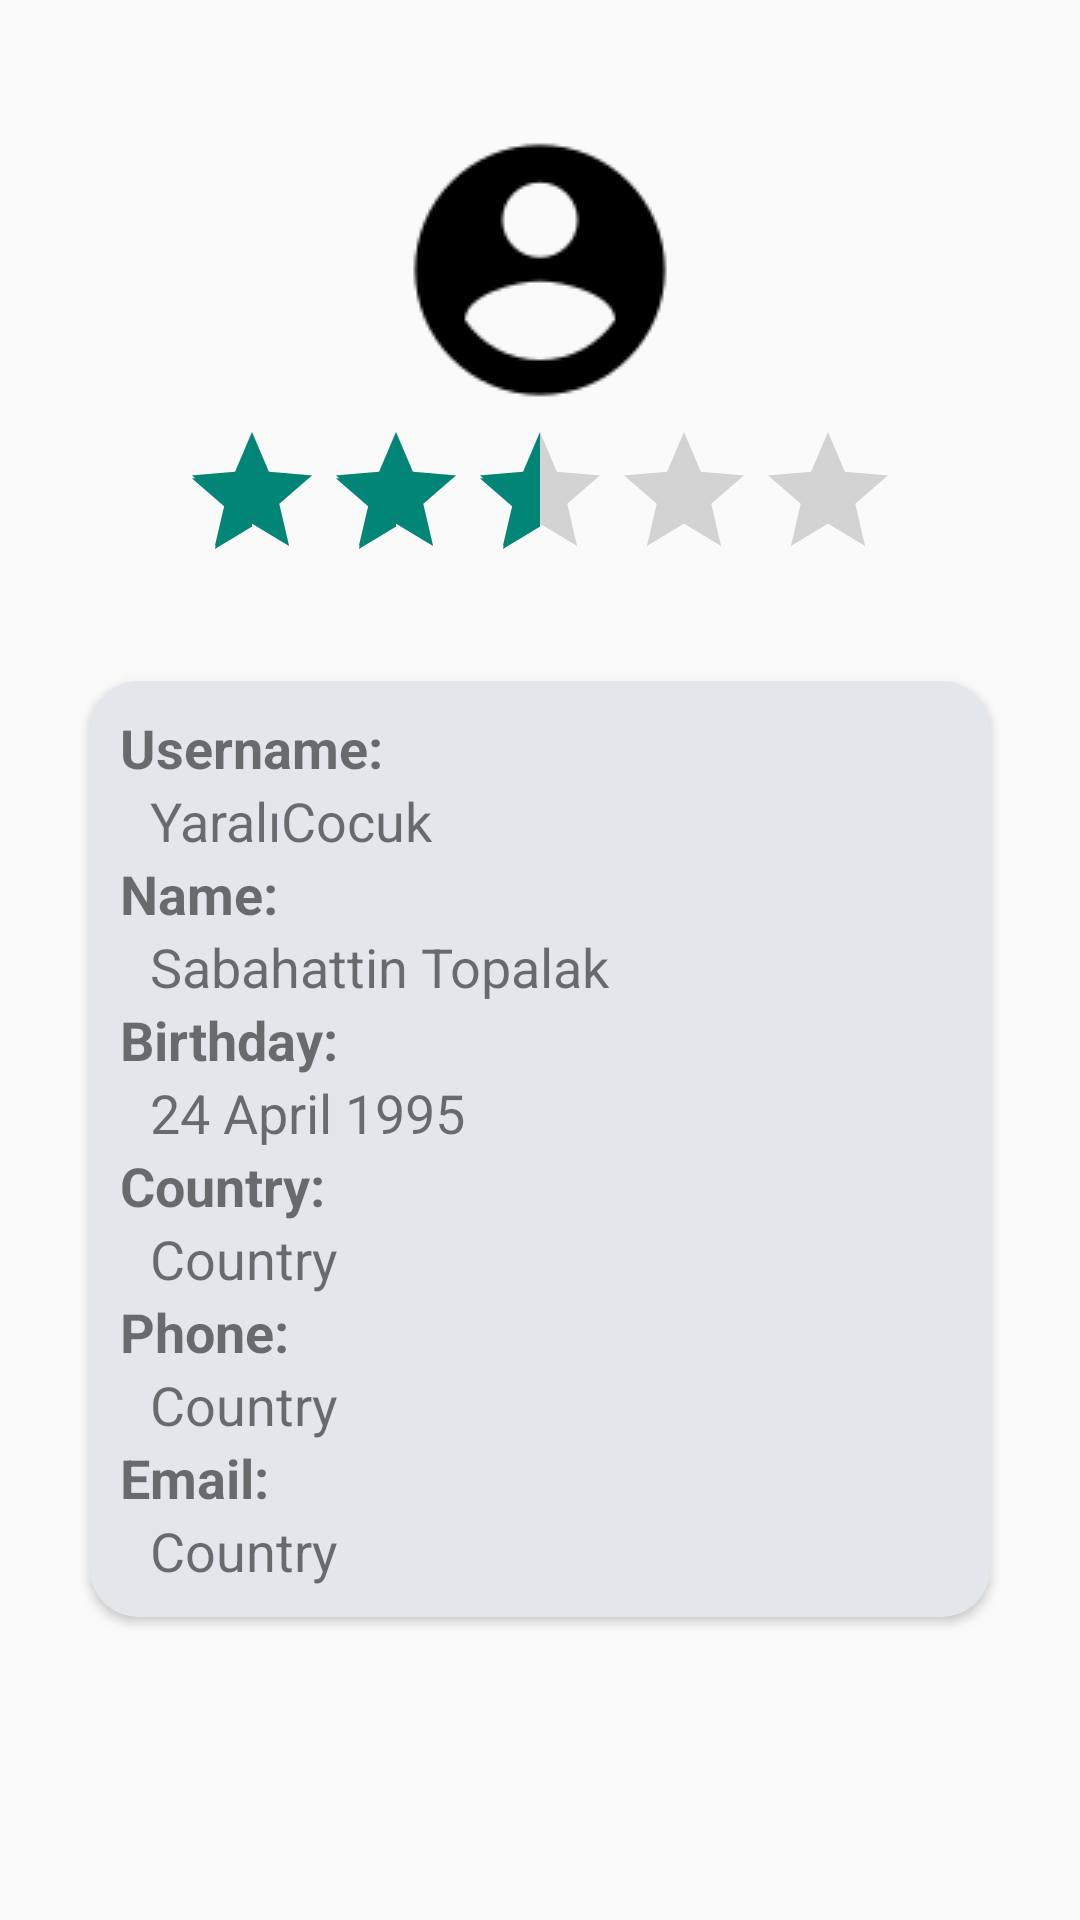

Icon click points for this 1080x1920 phone screenshot, format (x=x, y=y):
account circle: (x=540, y=270)
